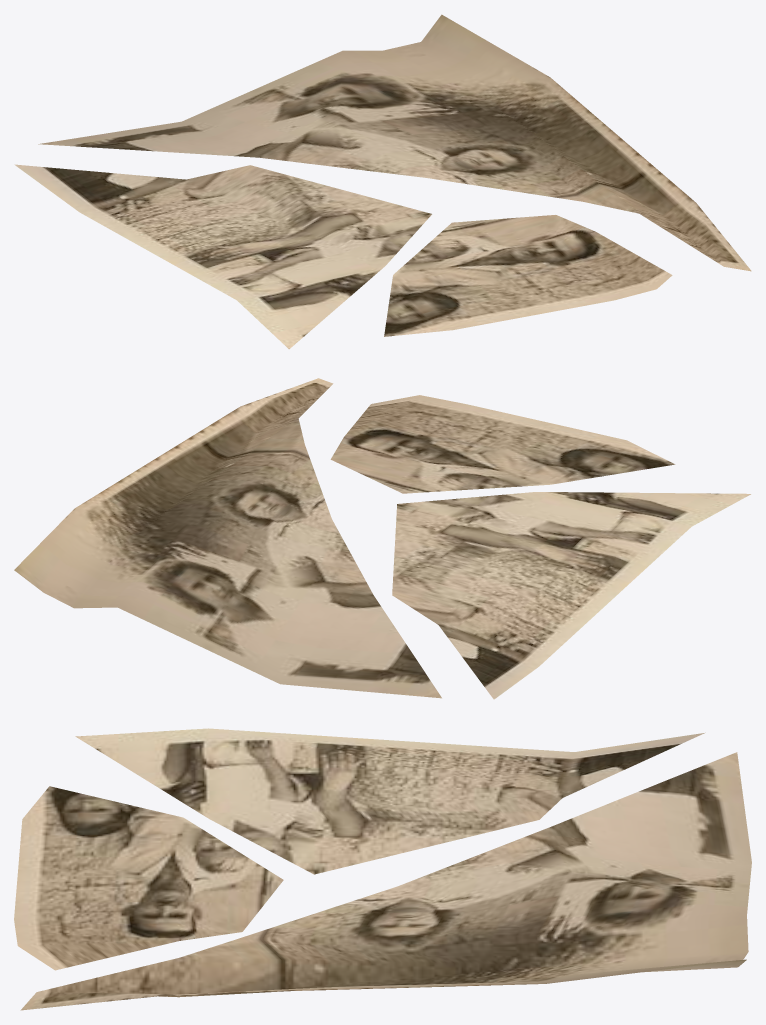
Rendered from Fotografia 2.FBX.
3 renders of one model, top to bottom at view 1: azimuth 30°, elevation 25°; view 2: azimuth 150°, elevation 25°; view 3: azimuth 270°, elevation 25°, orthographic. The views are drawn at different scales.
Visible parts, largest first — view 1: Plane008; view 2: Plane008; view 3: Plane008.
Part boxes in pixels (bbox=[...]): Plane008: bbox=[14, 14, 751, 349]; Plane008: bbox=[14, 378, 750, 699]; Plane008: bbox=[14, 728, 751, 1010].
Size of the model in its own units: 6.51 by 0.6021 by 7.34.
